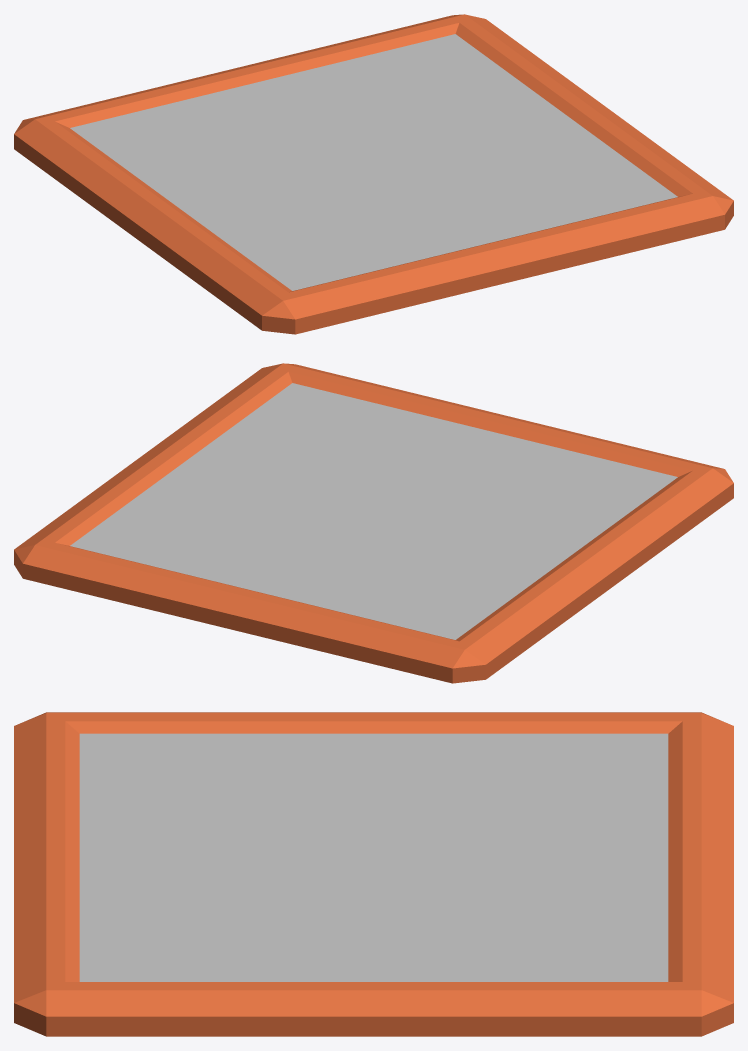
The model's file is board.glb.
The picture shows the model from 3 angles, top to bottom: view 1: azimuth 30°, elevation 25°; view 2: azimuth 150°, elevation 25°; view 3: azimuth 270°, elevation 25°; orthographic projection. The views are drawn at different scales.
Visible parts, largest first — view 1: Cube; view 2: Cube; view 3: Cube.
Part boxes in pixels (x1,y1,x2,y2): Cube: (14,14,733,334); Cube: (14,363,733,683); Cube: (14,712,733,1036).
Size of the model in its own units: 2 by 0.1005 by 2.
